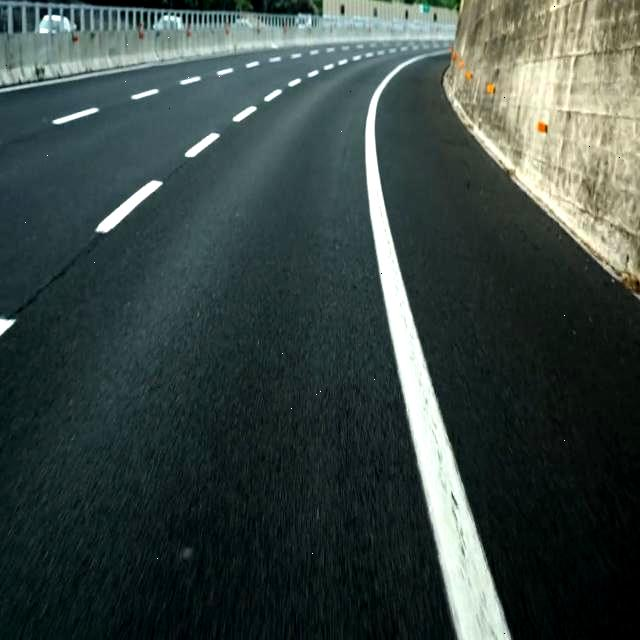lane: (365, 52, 511, 639), (95, 180, 162, 233), (185, 134, 220, 158), (52, 108, 99, 125), (232, 106, 258, 122)
road: (0, 52, 455, 639), (376, 57, 639, 639)
